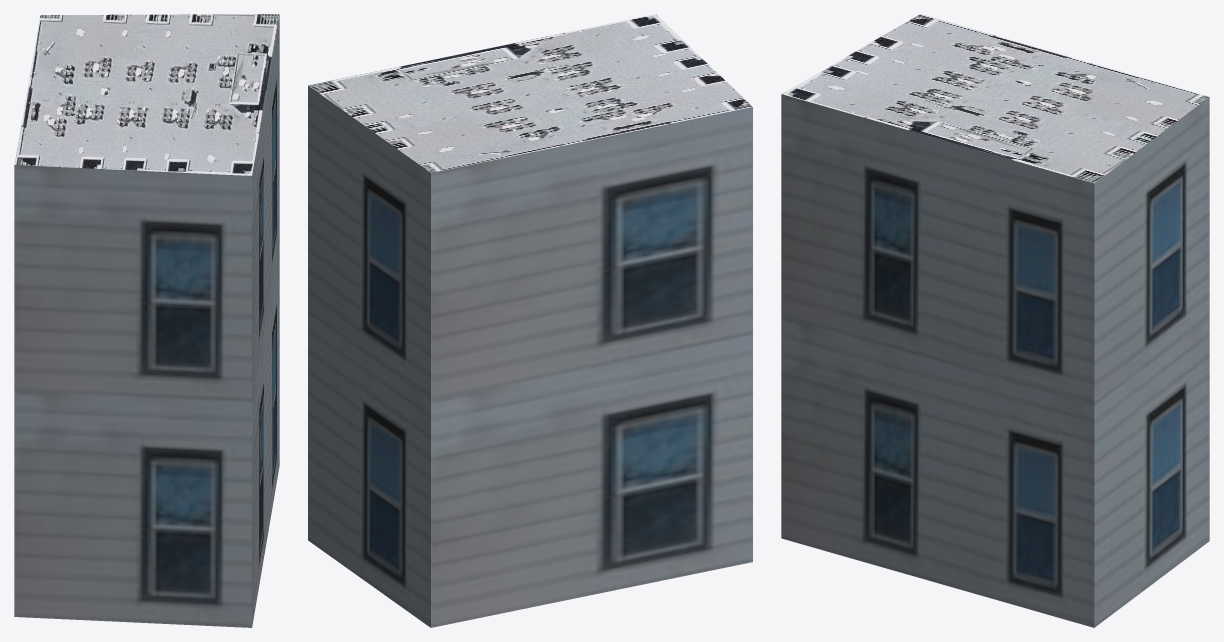
The model's file is ResTex__1901.fbx.
The picture shows the model from 3 angles, left to right: view 1: azimuth 30°, elevation 25°; view 2: azimuth 150°, elevation 25°; view 3: azimuth 270°, elevation 25°; orthographic projection. The views are drawn at different scales.
Visible parts, largest first — view 1: CityEngineMaterial_18_m, CityEngineMaterial_m; view 2: CityEngineMaterial_18_m, CityEngineMaterial_m; view 3: CityEngineMaterial_18_m, CityEngineMaterial_m.
Boxes of the visible parts, x1,y1,x2,y2 form: CityEngineMaterial_18_m: (14,15,279,627); CityEngineMaterial_m: (14,14,279,175); CityEngineMaterial_18_m: (308,85,752,627); CityEngineMaterial_m: (308,14,752,172); CityEngineMaterial_18_m: (781,94,1209,627); CityEngineMaterial_m: (782,14,1208,183).
Bounding box in the file's own units: 4.91 × 6 × 5.24.
2 materials, 2 textured.
